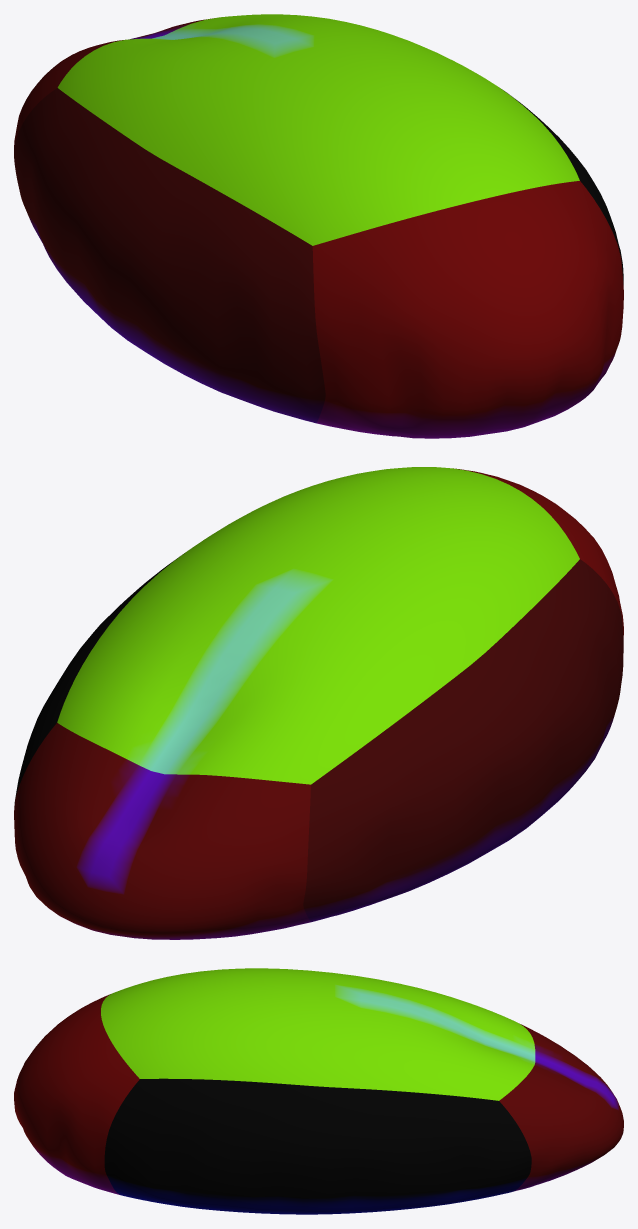
File: mouse.glb
3 views of the same model, one above another, from view 1: azimuth 30°, elevation 25°; view 2: azimuth 150°, elevation 25°; view 3: azimuth 270°, elevation 25° (orthographic). The views are drawn at different scales.
Parts seen in each view (by area): view 1: mouse; view 2: mouse; view 3: mouse.
Boxes of the visible parts, left/top/right/bottom form: mouse: left=14, top=14, right=623, bottom=438; mouse: left=14, top=467, right=623, bottom=939; mouse: left=14, top=968, right=623, bottom=1214.
Size of the model in its own units: 1.6 by 0.9081 by 2.84.
